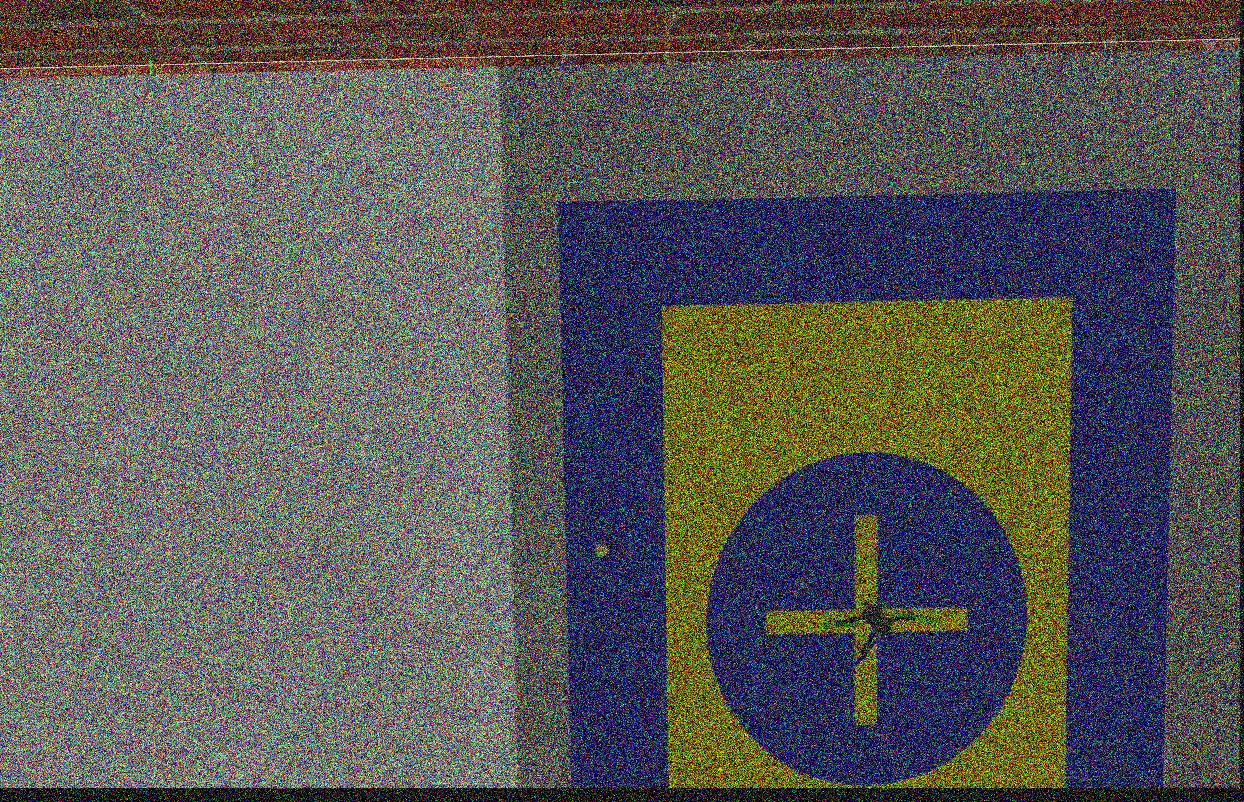large_base: (556, 191, 1175, 797)
